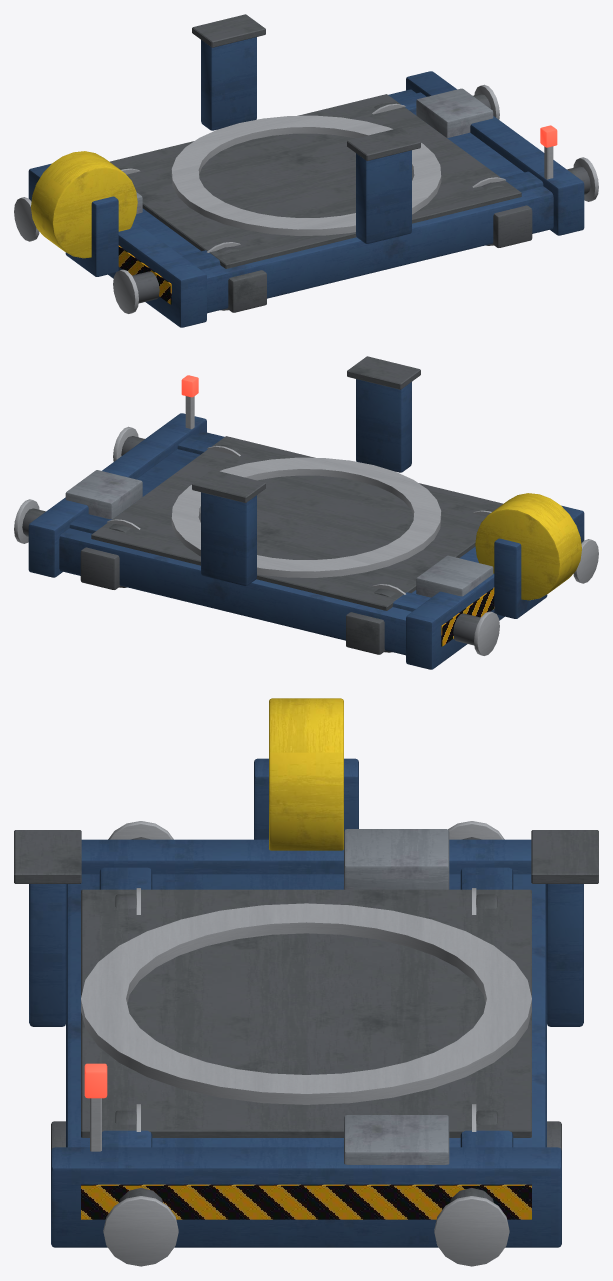
The model's file is ladle_car.glb.
3 renders of one model, top to bottom at view 1: azimuth 30°, elevation 25°; view 2: azimuth 150°, elevation 25°; view 3: azimuth 270°, elevation 25°, orthographic. The views are drawn at different scales.
Parts seen in each view (by area): view 1: LadleCar_geo, wheels_geo; view 2: LadleCar_geo, wheels_geo; view 3: LadleCar_geo, wheels_geo.
Part boxes in pixels (box(x1,y1,x2,y2)): LadleCar_geo: box(14, 14, 598, 327); wheels_geo: box(119, 103, 505, 310); LadleCar_geo: box(14, 356, 598, 669); wheels_geo: box(107, 445, 493, 652); LadleCar_geo: box(14, 698, 598, 1266); wheels_geo: box(115, 888, 497, 1131).
Size of the model in its own units: 6.38 by 1.9 by 3.89.
Materials: 7 (6 with a texture image).
